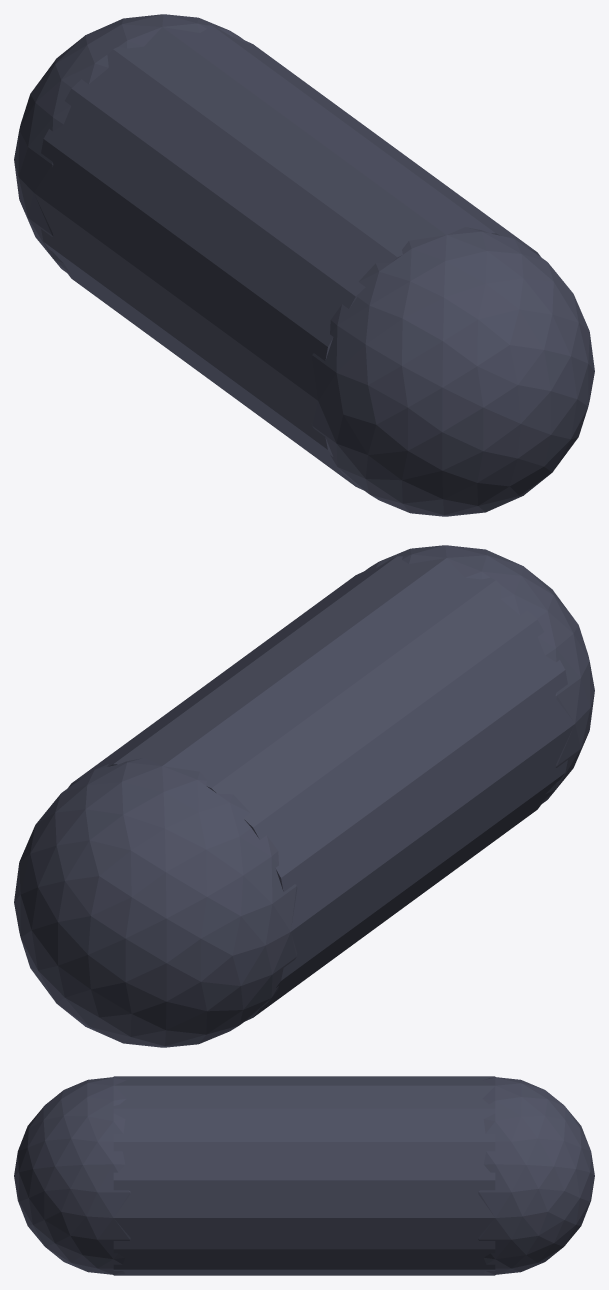
The model's file is primm_left_upper_leg.glb.
3 renders of one model, top to bottom at view 1: azimuth 30°, elevation 25°; view 2: azimuth 150°, elevation 25°; view 3: azimuth 270°, elevation 25°, orthographic. The views are drawn at different scales.
Visible parts, largest first — view 1: world; view 2: world; view 3: world.
Boxes of the visible parts, left/top/right/bottom form: world: left=14, top=14, right=594, bottom=516; world: left=14, top=545, right=594, bottom=1047; world: left=14, top=1076, right=594, bottom=1275.
Size of the model in its own units: 0.144 by 0.144 by 0.42.
